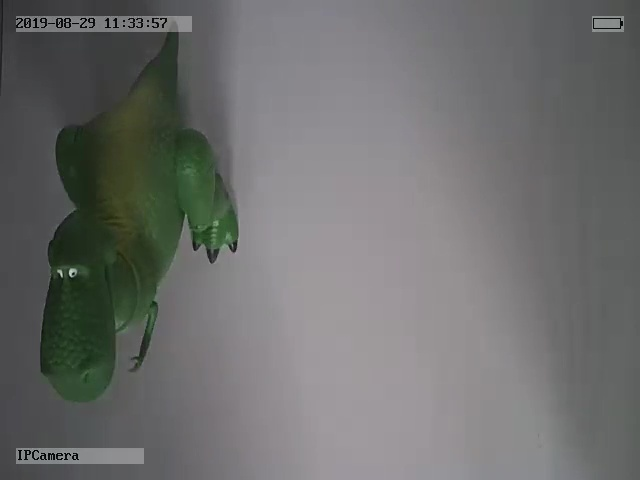rex: (40, 32, 239, 404)
